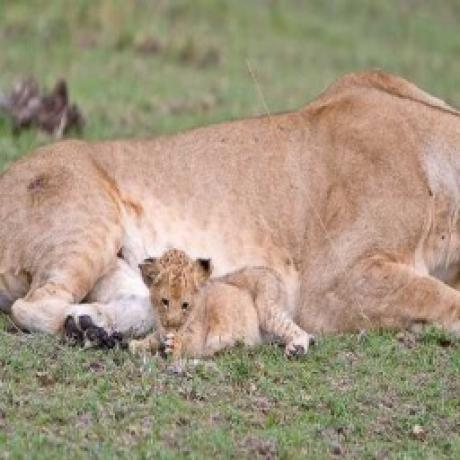Lion: (140, 246, 318, 361)
